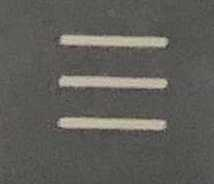menu: (32, 8, 199, 153)
